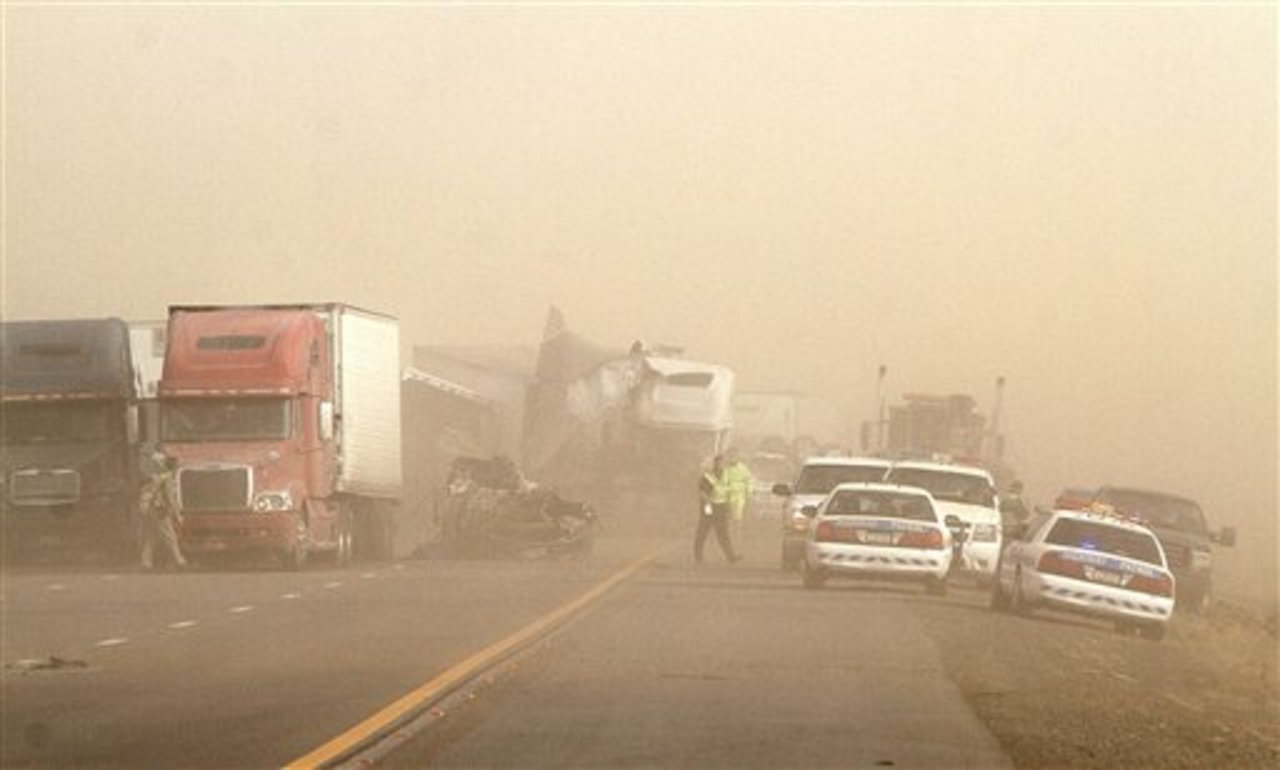car: (990, 503, 1177, 627), (1053, 488, 1214, 614), (798, 482, 954, 591), (885, 452, 1002, 573), (779, 452, 890, 546)
person: (691, 456, 735, 563), (718, 441, 755, 545)
truck: (144, 303, 412, 574), (2, 298, 177, 572)
